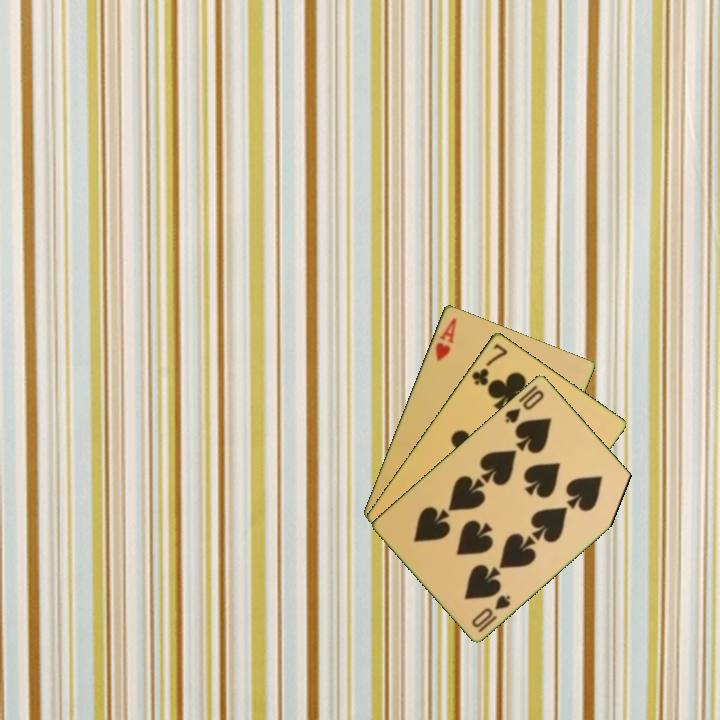10s: (468, 591, 514, 635), (501, 386, 547, 426)
7c: (468, 339, 510, 388)
Ah: (431, 314, 459, 364)
